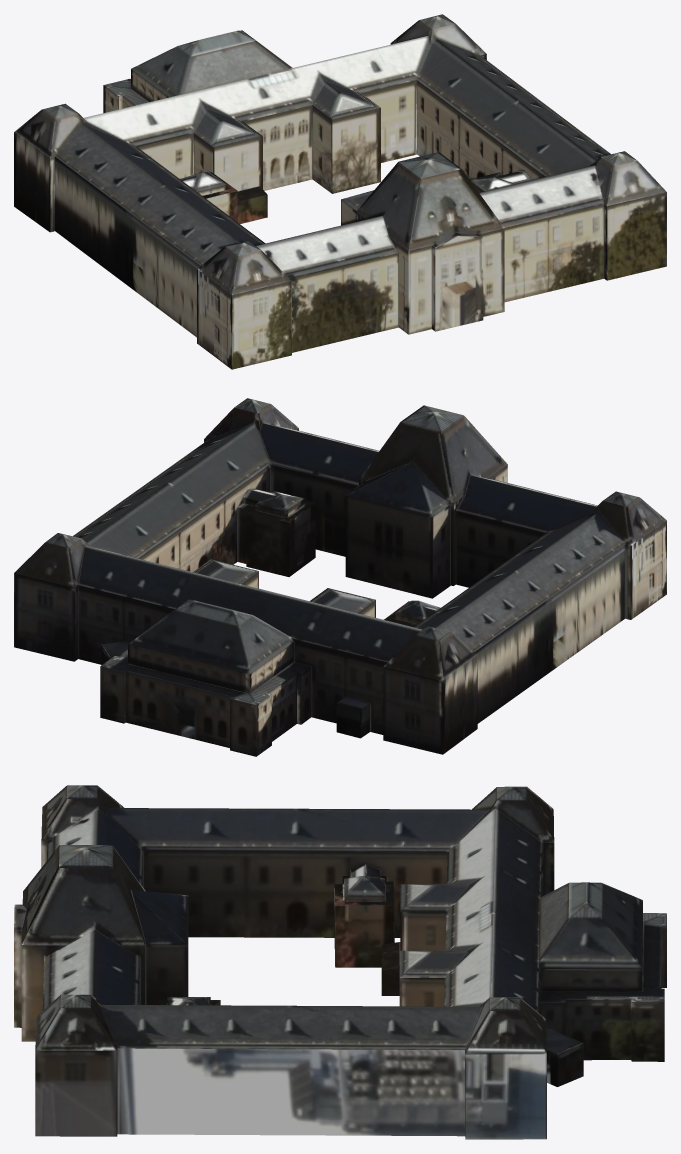
The model's file is kyoto-old-office.glb.
The picture shows the model from 3 angles, top to bottom: view 1: azimuth 30°, elevation 25°; view 2: azimuth 150°, elevation 25°; view 3: azimuth 270°, elevation 25°; orthographic projection. The views are drawn at different scales.
Size of the model in its own units: 70.21 by 22.04 by 78.49.
Materials: 2 (1 with a texture image).
